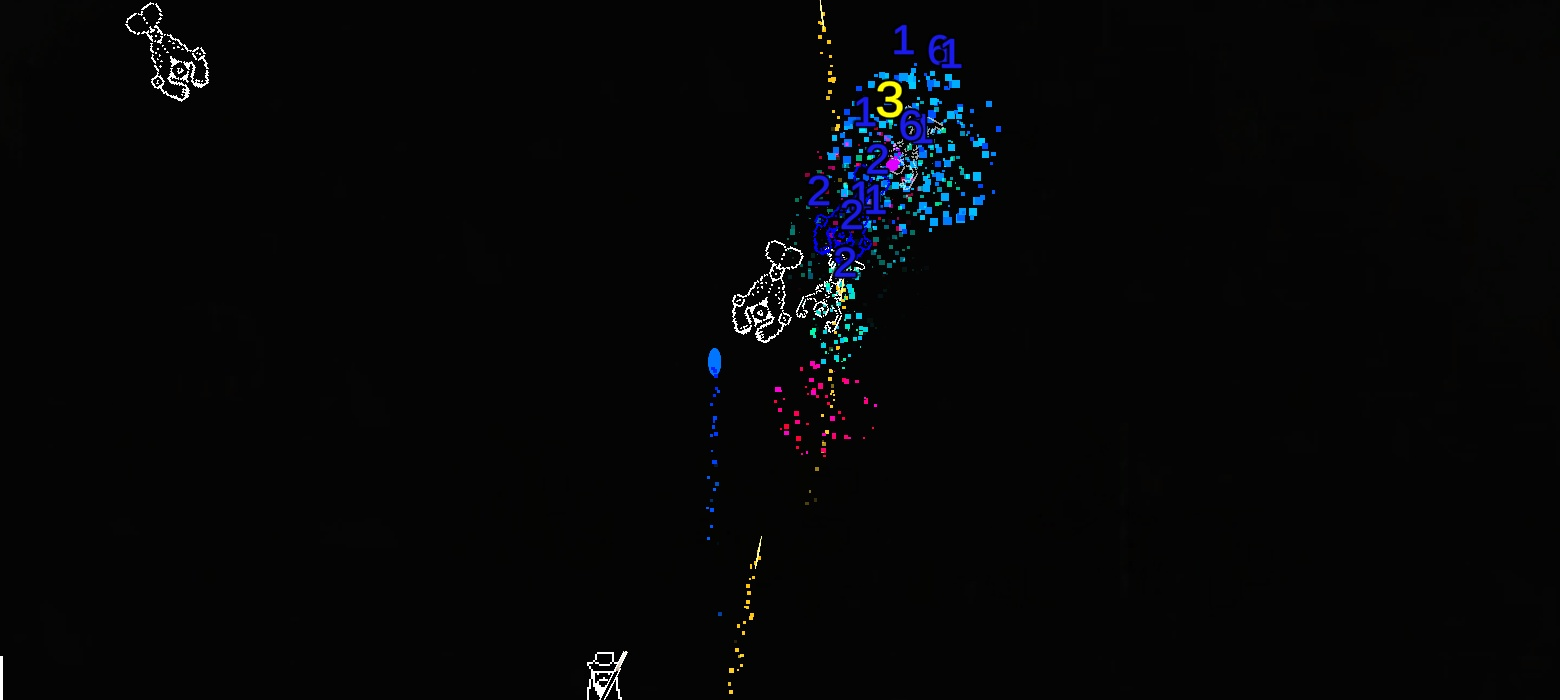enemy: (125, 2, 210, 103), (732, 240, 804, 344), (872, 105, 944, 191), (796, 247, 865, 333)
